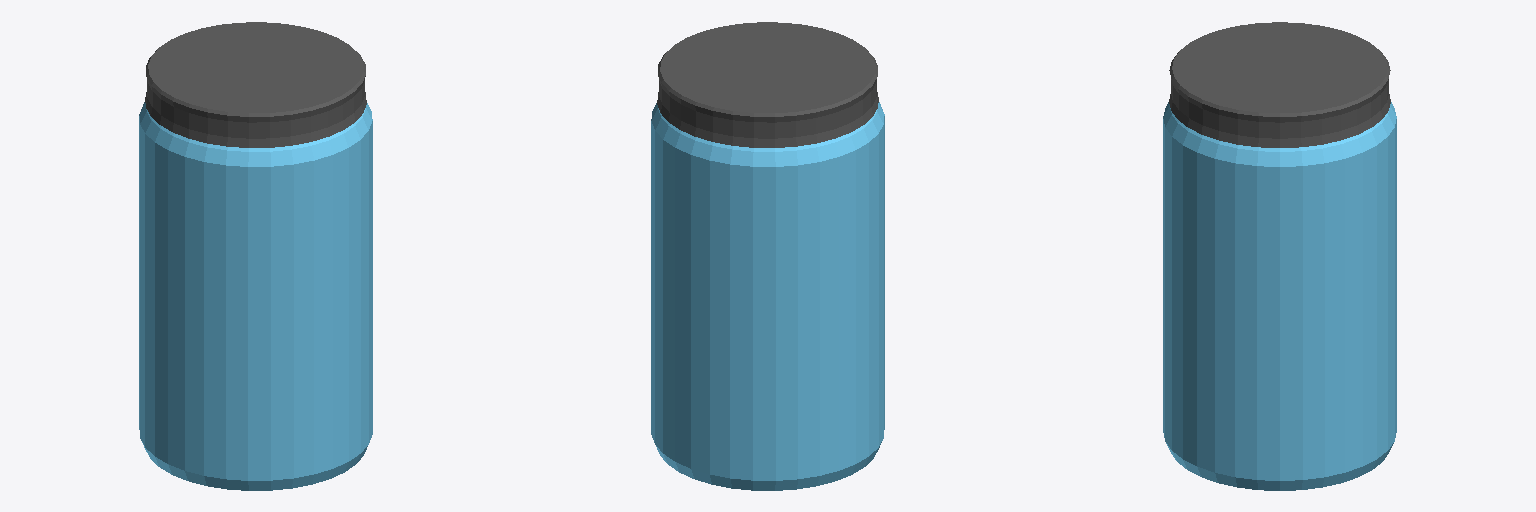
The model's file is chromo_box.obj.
The picture shows the model from 3 angles: view 1: azimuth 30°, elevation 25°; view 2: azimuth 150°, elevation 25°; view 3: azimuth 270°, elevation 25°; orthographic projection.
Parts seen in each view (by area): view 1: банка_Cylinder.010, крышка_Cylinder.001; view 2: банка_Cylinder.010, крышка_Cylinder.001; view 3: банка_Cylinder.010, крышка_Cylinder.001.
Part boxes in pixels (x1,y1,x2,y2): банка_Cylinder.010: (139, 102, 372, 490); крышка_Cylinder.001: (145, 22, 366, 147); банка_Cylinder.010: (651, 102, 884, 490); крышка_Cylinder.001: (657, 22, 878, 147); банка_Cylinder.010: (1163, 102, 1396, 490); крышка_Cylinder.001: (1169, 22, 1390, 147).
Bounding box in the file's own units: 0.1 × 0.1777 × 0.1.